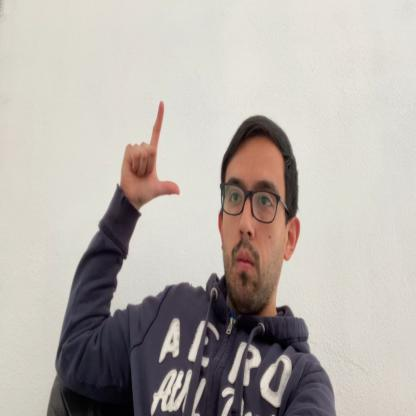L: (121, 99, 180, 203)
